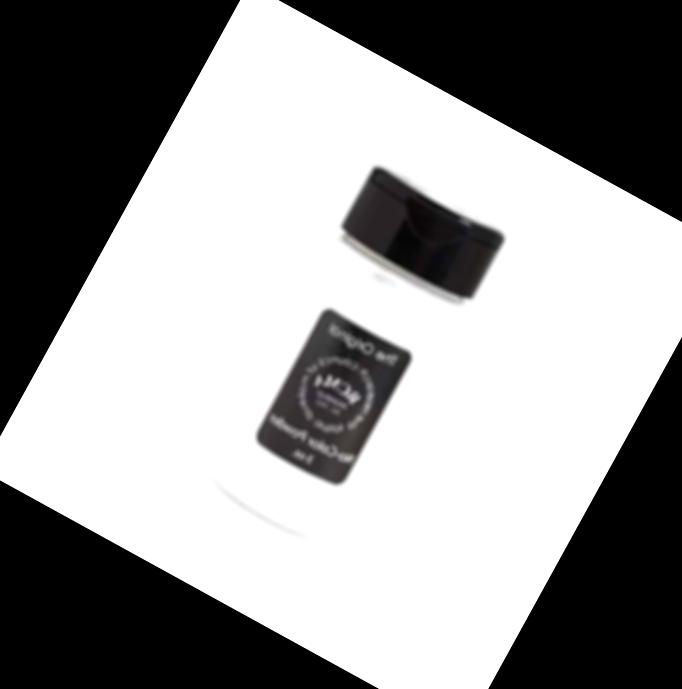cosmetic: (194, 157, 513, 554)
